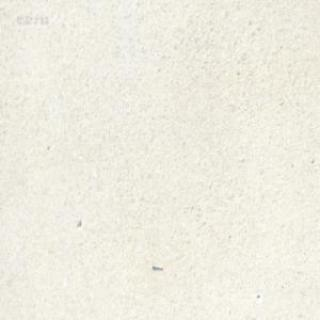Nailtrack_idkeyframe: (151, 261, 162, 270)
